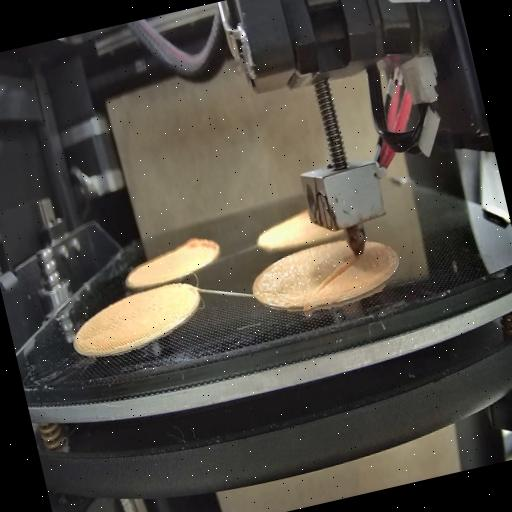over_extrusion: (309, 254, 366, 294), (180, 229, 224, 270)
